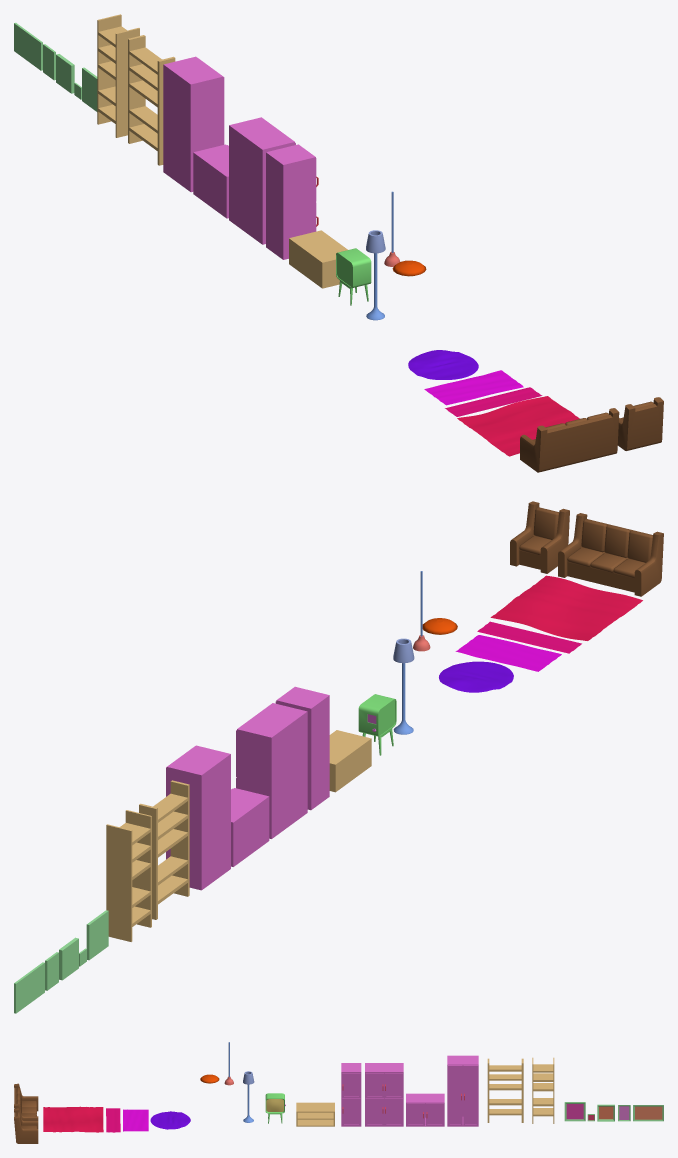
The model's file is LivingRoomDLC.fbx.
3 renders of one model, top to bottom at view 1: azimuth 30°, elevation 25°; view 2: azimuth 150°, elevation 25°; view 3: azimuth 270°, elevation 25°, orthographic. The views are drawn at different scales.
Parts seen in each view (by area): view 1: TallCloset, HalfCloset, BigCloset, Cube.005, Shelf2, Shelf1, Rug4, SofaTable, SmallCloset, Cube.040, Rug2, Rug1 (+3 smaller); view 2: BigCloset, TallCloset, Rug4, Shelf1, Shelf2, HalfCloset, Cube.005, SmallCloset, SofaTable, Cube.014, Cube.040, Rug2 (+6 smaller); view 3: Rug4, Shelf2, Shelf1, TallCloset2, SofaTable, TallClosetDoor1, BigCloset, TallCloset, Rug2, Rug1, Cube.040, HalfClosetDoor2 (+17 smaller).
Part boxes in pixels (<box>): TallCloset: <box>163,56,223,192</box>; HalfCloset: <box>266,144,315,259</box>; BigCloset: <box>229,117,294,244</box>; Cube.005: <box>520,408,619,472</box>; Shelf2: <box>128,35,175,165</box>; Shelf1: <box>97,14,139,137</box>; Rug4: <box>457,396,579,456</box>; SofaTable: <box>289,230,347,288</box>; SmallCloset: <box>193,144,228,218</box>; Cube.040: <box>617,397,663,450</box>; Rug2: <box>424,370,523,405</box>; Rug1: <box>408,350,478,379</box>; BigCloset: <box>237,703,307,838</box>; TallCloset: <box>167,745,230,890</box>; Rug4: <box>490,575,642,640</box>; Shelf1: <box>106,810,151,941</box>; Shelf2: <box>139,780,189,919</box>; HalfCloset: <box>276,686,329,810</box>; Cube.005: <box>558,513,663,596</box>; SmallCloset: <box>231,788,269,866</box>; SofaTable: <box>329,730,371,792</box>; Cube.014: <box>581,519,652,562</box>; Cube.040: <box>510,501,569,573</box>; Rug2: <box>455,635,561,671</box>; Rug4: <box>43,1106,103,1132</box>; Shelf2: <box>487,1058,523,1122</box>; Shelf1: <box>532,1057,554,1123</box>; TallCloset2: <box>463,1065,478,1125</box>; SofaTable: <box>296,1102,334,1126</box>; TallClosetDoor1: <box>448,1065,462,1125</box>; BigCloset: <box>365,1063,403,1126</box>; TallCloset: <box>447,1055,478,1126</box>; Rug2: <box>123,1109,148,1131</box>; Rug1: <box>150,1111,190,1129</box>; Cube.040: <box>14,1108,38,1143</box>; HalfClosetDoor2: <box>342,1098,360,1126</box>.
Bounding box in the file's own units: 199 × 203 × 1514.
